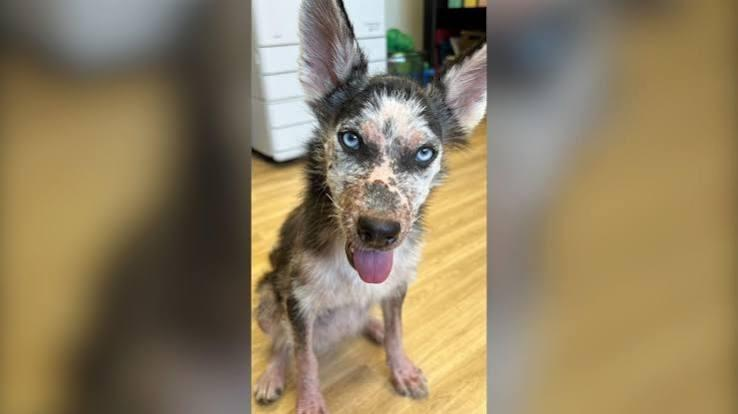puppy-dog: (255, 0, 489, 414)
